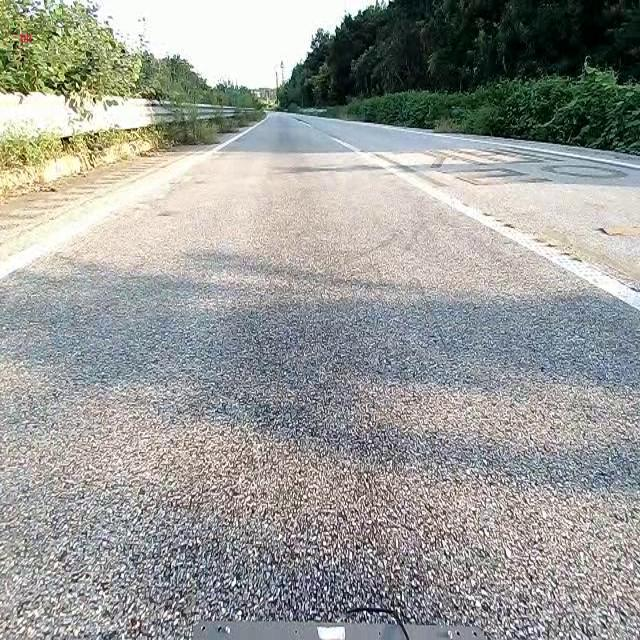Lane: (335, 128, 640, 313), (333, 138, 639, 311), (0, 112, 277, 290), (0, 113, 271, 281)
